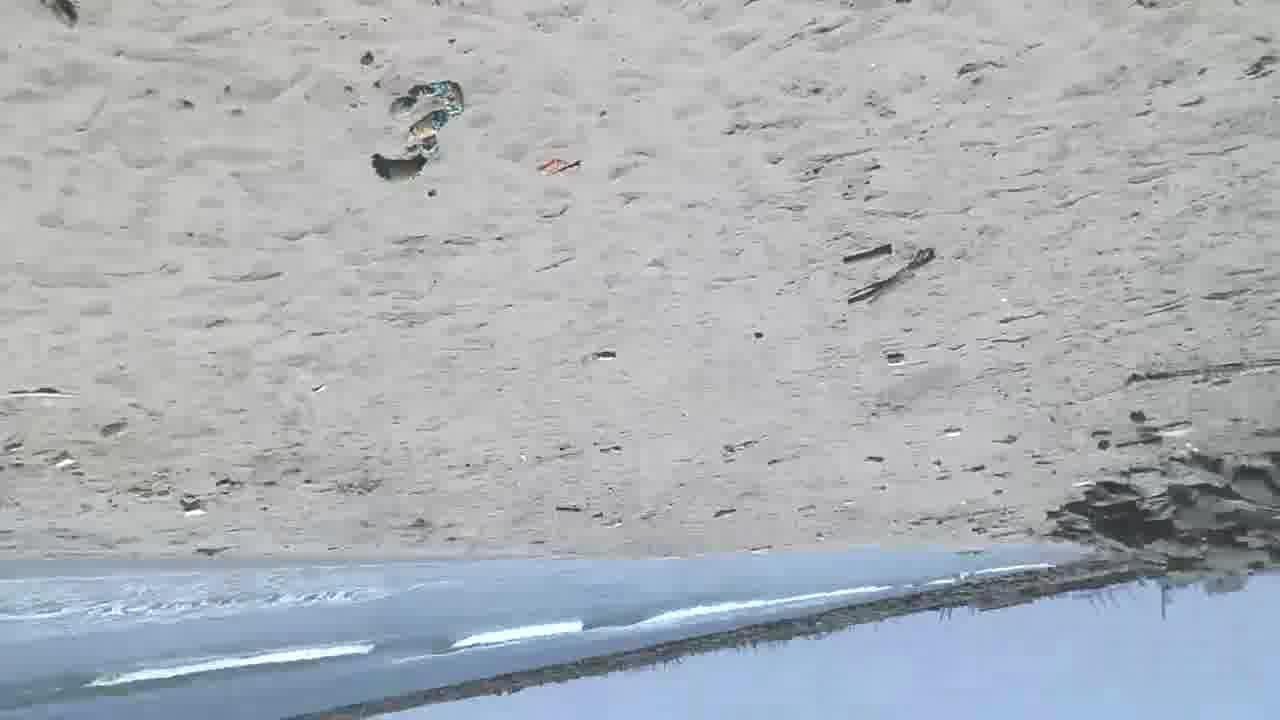large collection of objects: (368, 78, 469, 192)
obj: (846, 247, 933, 307), (1123, 363, 1279, 392), (36, 1, 83, 30), (842, 244, 894, 266), (10, 390, 74, 404), (1157, 422, 1192, 436), (185, 498, 206, 517), (52, 452, 72, 469), (889, 356, 904, 368), (944, 430, 960, 437)
sand/background: (0, 436, 1280, 719)
